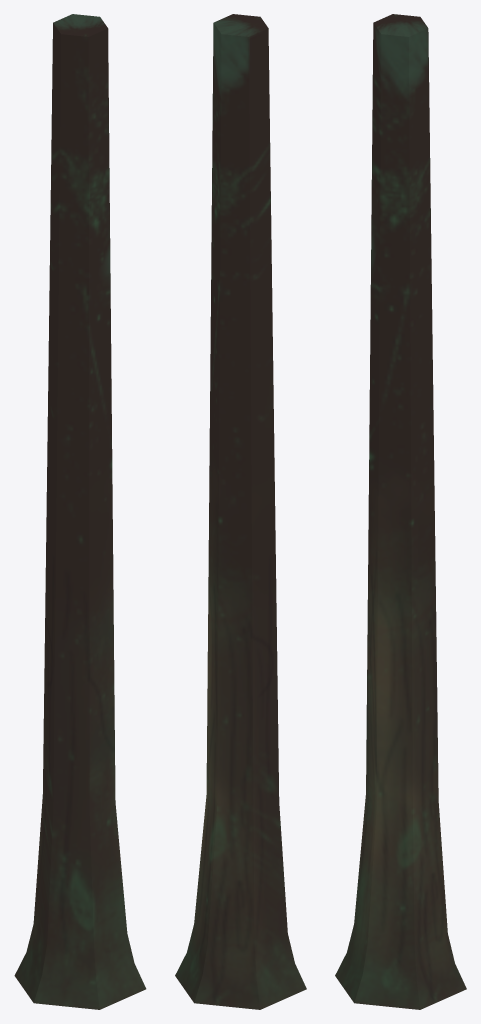
The model's file is polysurface133_lambert6_0.007_lev2.glb.
The picture shows the model from 3 angles, left to right: view 1: azimuth 90°, elevation 25°; view 2: azimuth 210°, elevation 25°; view 3: azimuth 270°, elevation 25°; orthographic projection.
Visible parts, largest first — view 1: polysurface133_lambert6_0.007_lev2; view 2: polysurface133_lambert6_0.007_lev2; view 3: polysurface133_lambert6_0.007_lev2.
Part boxes in pixels (bbox=[...]): polysurface133_lambert6_0.007_lev2: bbox=[14, 14, 146, 1009]; polysurface133_lambert6_0.007_lev2: bbox=[175, 14, 306, 1009]; polysurface133_lambert6_0.007_lev2: bbox=[335, 14, 466, 1009].
Bounding box in the file's own units: 0.935 × 7.58 × 0.9478.
1 material, 1 textured.
